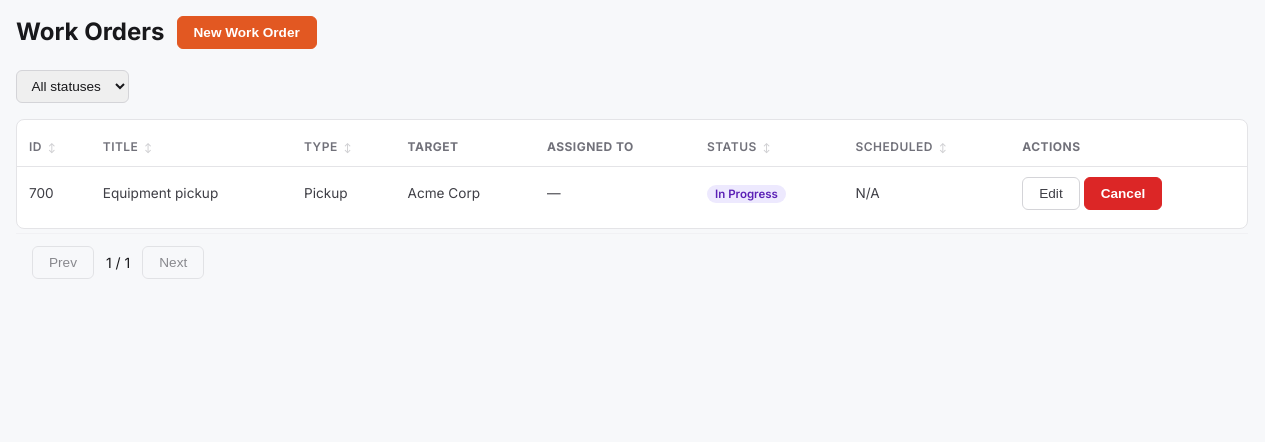
Test case: WorkOrders — pickup checklist › expanding the row shows the outstanding rented-equipment checklist, not materials
The width and height of the screenshot is (1265, 442).
Click the text "Equipment pickup" at point(191, 193), box [91,166,292,220]
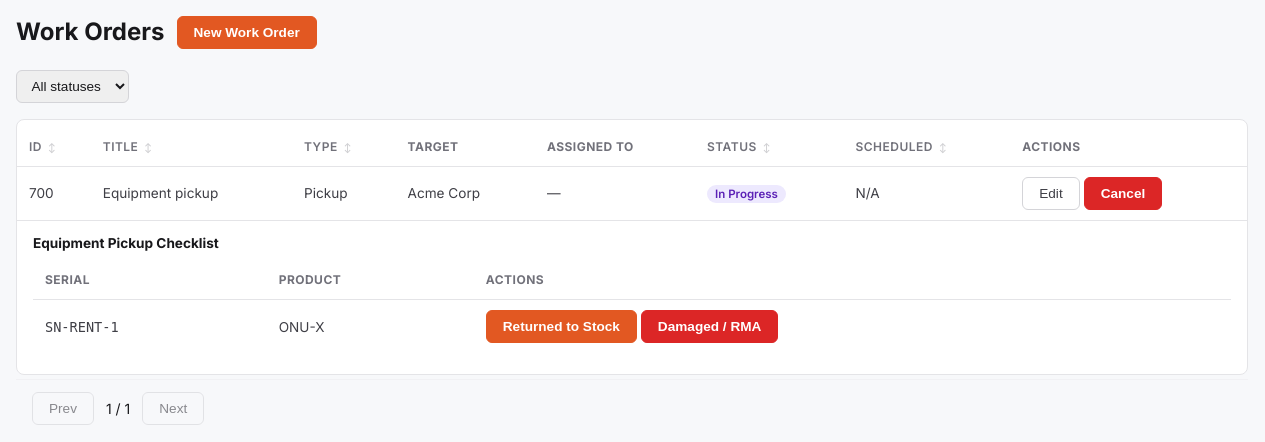
Check: the text "SN-RENT-1" is shown, box [33,299,267,354]
Check: the text "ONU-X" is shown, box [267,299,474,354]
